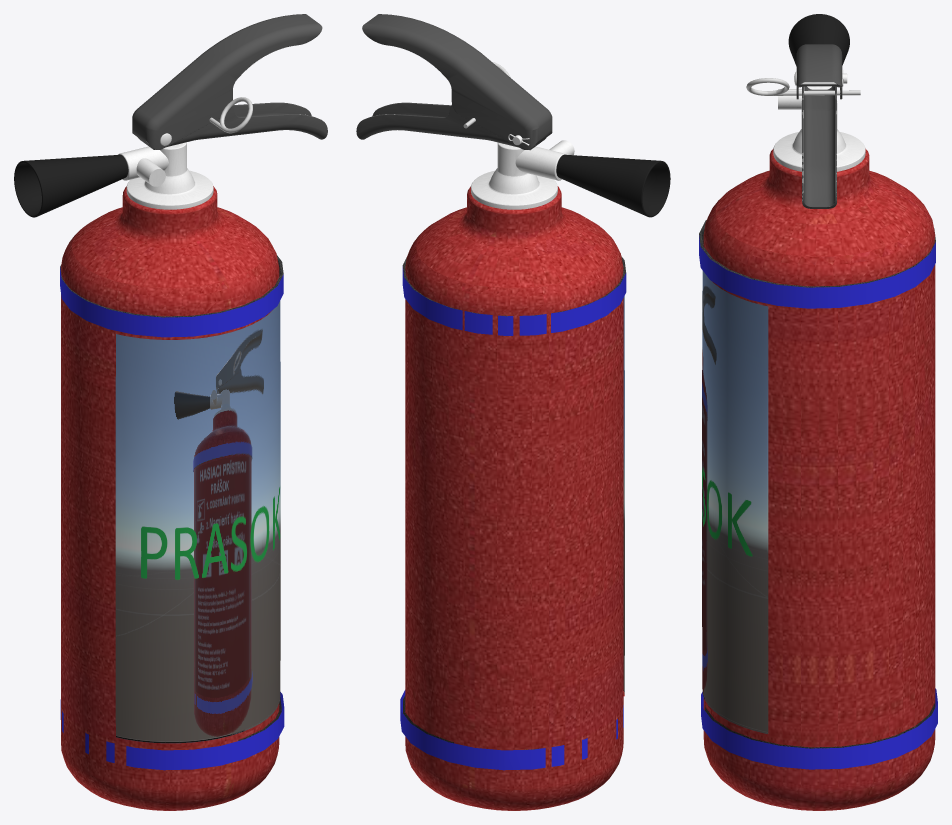
Rendered from fire_powder.fbx.
3 views of the same model, side by side, from view 1: azimuth 30°, elevation 25°; view 2: azimuth 150°, elevation 25°; view 3: azimuth 270°, elevation 25° (orthographic). The views are drawn at different scales.
Parts seen in each view (by area): view 1: Group4, Group3, Group8, Group7, Group2, FireJadi8_1, Group5, Group9, Group1; view 2: Group3, Group8, Group7, FireJadi8_1, Group2, Group5, Group9, Group4; view 3: Group3, Group4, Group5, Group2, Group9, FireJadi8_1, Group8, Group7, Group1, Group10.
Boxes of the visible parts, x1=… form: Group4: x1=115, y1=301, x2=280, y2=743; Group3: x1=61, y1=186, x2=279, y2=810; Group8: x1=132, y1=14, x2=322, y2=149; Group7: x1=14, y1=154, x2=128, y2=217; Group2: x1=60, y1=267, x2=283, y2=337; FireJadi8_1: x1=118, y1=142, x2=213, y2=209; Group5: x1=60, y1=692, x2=284, y2=770; Group9: x1=138, y1=102, x2=327, y2=149; Group1: x1=60, y1=255, x2=283, y2=740; Group3: x1=405, y1=186, x2=623, y2=810; Group8: x1=362, y1=14, x2=552, y2=149; Group7: x1=556, y1=154, x2=670, y2=217; FireJadi8_1: x1=471, y1=140, x2=574, y2=209; Group2: x1=402, y1=266, x2=626, y2=335; Group5: x1=400, y1=690, x2=623, y2=770; Group9: x1=356, y1=102, x2=546, y2=150; Group4: x1=623, y1=296, x2=624, y2=694; Group3: x1=703, y1=148, x2=935, y2=810; Group4: x1=702, y1=271, x2=768, y2=733; Group5: x1=701, y1=688, x2=937, y2=769; Group2: x1=699, y1=235, x2=935, y2=308; Group9: x1=802, y1=86, x2=836, y2=208; FireJadi8_1: x1=773, y1=89, x2=865, y2=171; Group8: x1=796, y1=44, x2=842, y2=99; Group7: x1=788, y1=14, x2=849, y2=66; Group1: x1=699, y1=220, x2=935, y2=748; Group10: x1=746, y1=78, x2=860, y2=95.
Size of the model in its own units: 23.53 by 56.09 by 15.75.
